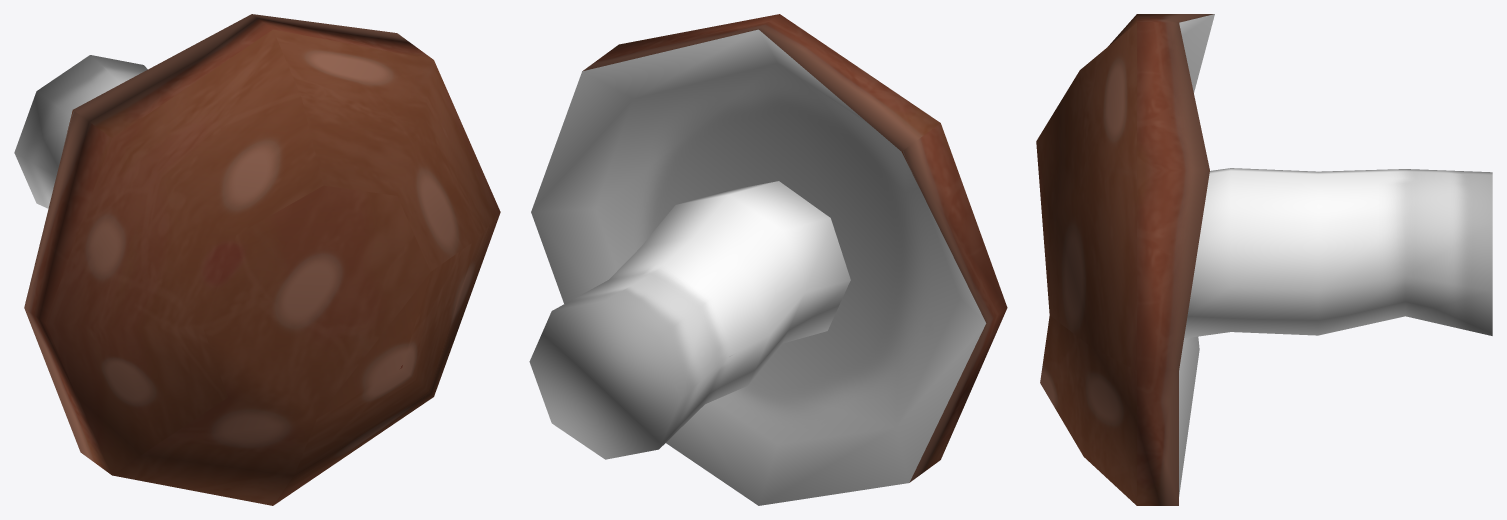
Rendered from MushroomSmall.obj.
The picture shows the model from 3 angles, left to right: view 1: azimuth 30°, elevation 25°; view 2: azimuth 150°, elevation 25°; view 3: azimuth 270°, elevation 25°; orthographic projection.
Parts seen in each view (by area): view 1: Cylinder.001, Cylinder; view 2: Cylinder.001, Cylinder; view 3: Cylinder.001, Cylinder.
Part boxes in pixels (x1,y1,x2,y2): Cylinder.001: [24, 14, 500, 505]; Cylinder: [14, 55, 147, 208]; Cylinder.001: [531, 14, 1007, 505]; Cylinder: [529, 181, 850, 459]; Cylinder.001: [1036, 14, 1214, 505]; Cylinder: [1184, 168, 1492, 338].
Bounding box in the file's own units: 30 × 30 × 26.16.
